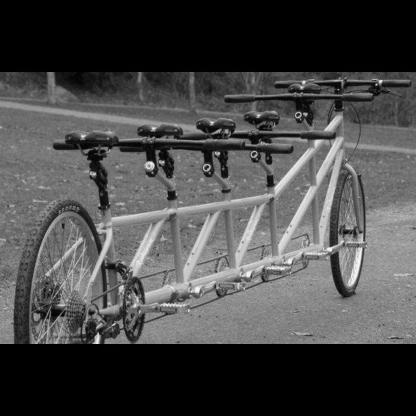Bicycle: (9, 69, 414, 346)
